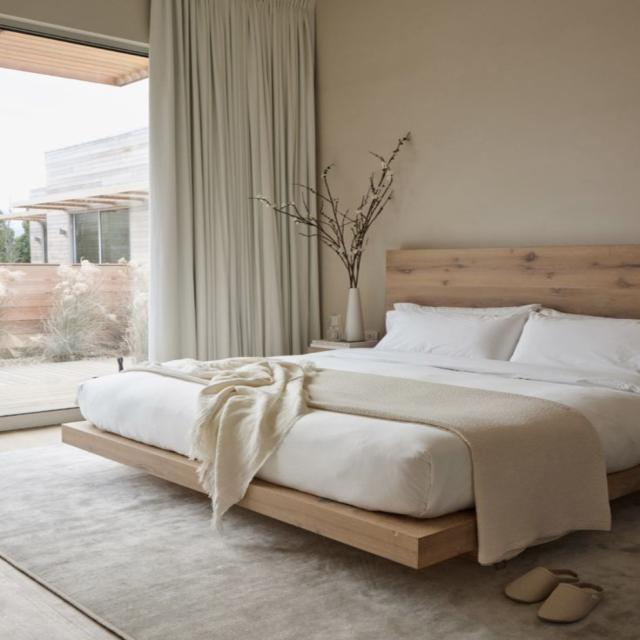obstacle: (60, 245, 639, 570)
